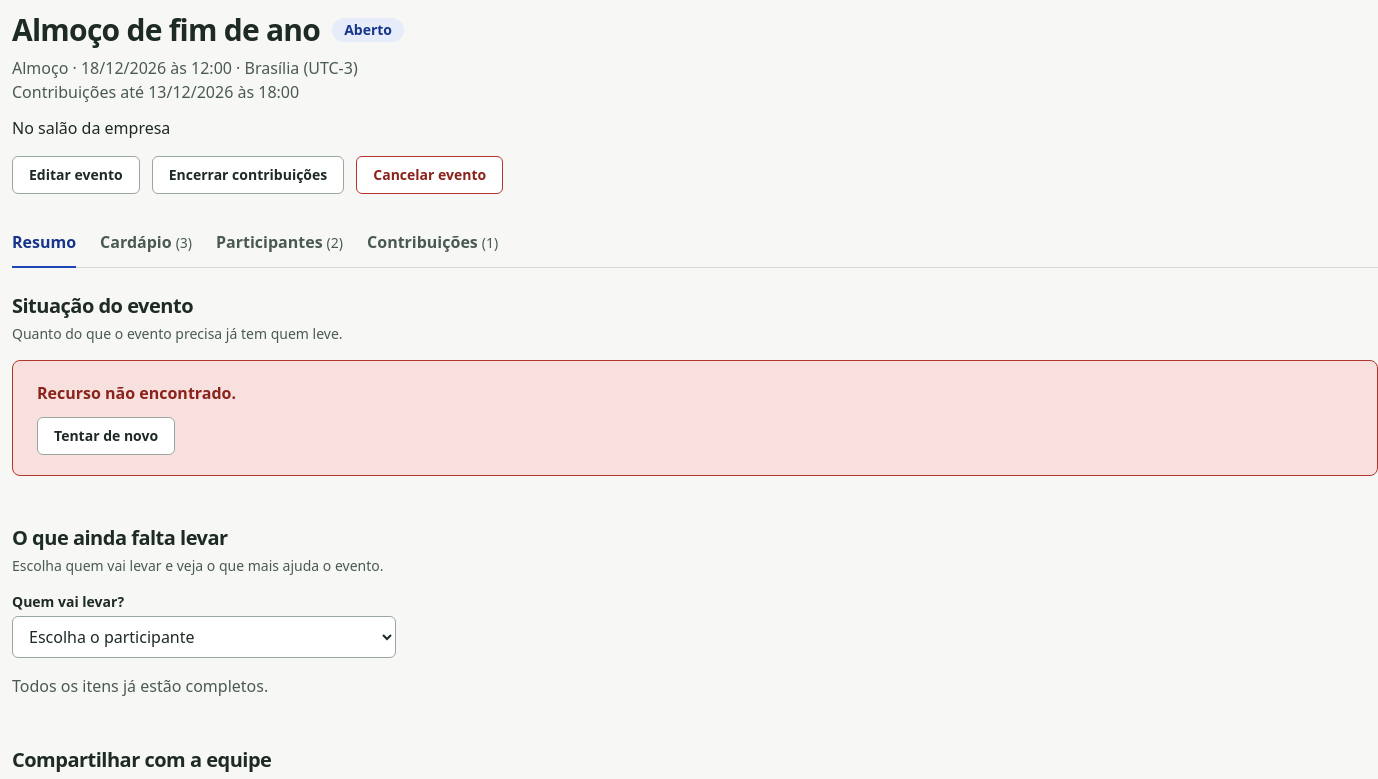
Test: EventPage: status actions › changes the situation at once, without a question, and loads the event again
This screenshot has width=1378, height=779.
Step 1. Click the button "Encerrar contribuições" → (248, 175), box [152,156,344,194]
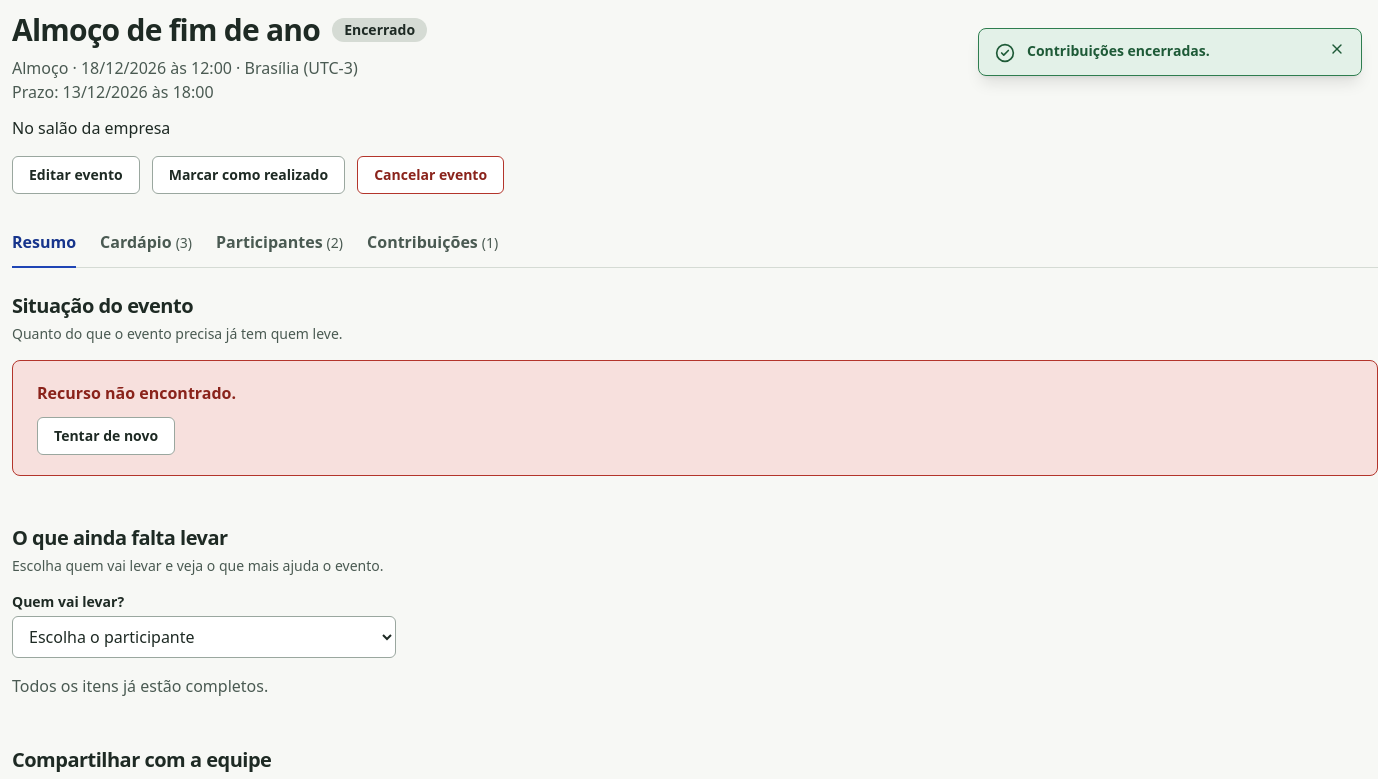
Expected: the text "Contribuições encerradas." is shown, [1027,41,1210,60]
Expected: the button "Marcar como realizado" is shown, [152,156,345,194]
Expected: the button "Encerrar contribuições" is gone
